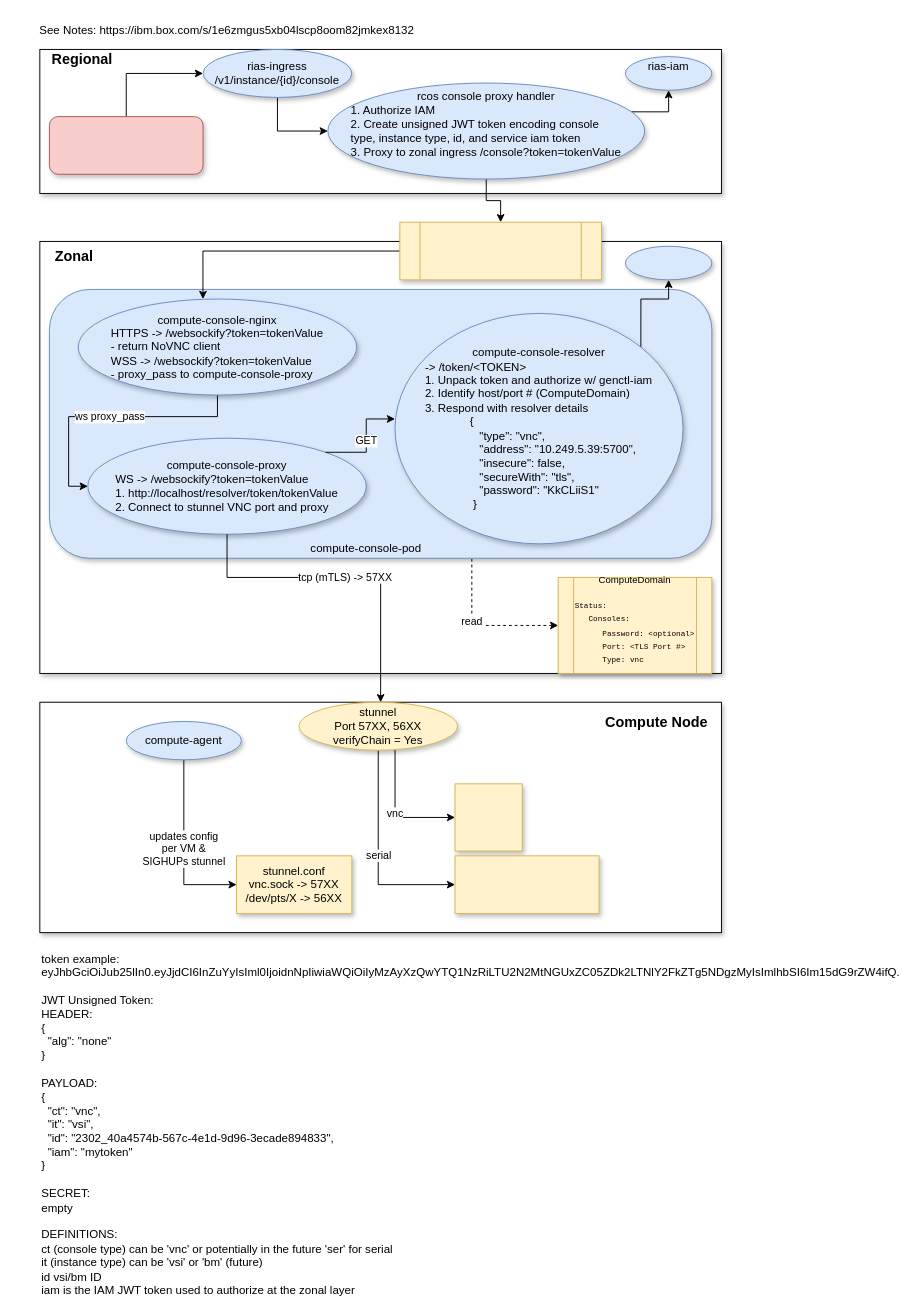
Image size: 916x1313. Some labels were removed from this diagram. Here are the shapes that lost their labels. From the top down, the centre of each, then its label:
point 127,146: GET /instance/{id}/console?consoleType=vnc
point 501,252: Console Ingress /console?token=tokenValue https / wss
point 669,264: genctl-iam
point 489,818: qemu VNC vnc.sock
point 527,885: qemu serial -> /dev/pts/X socat - /dev/pts/X
